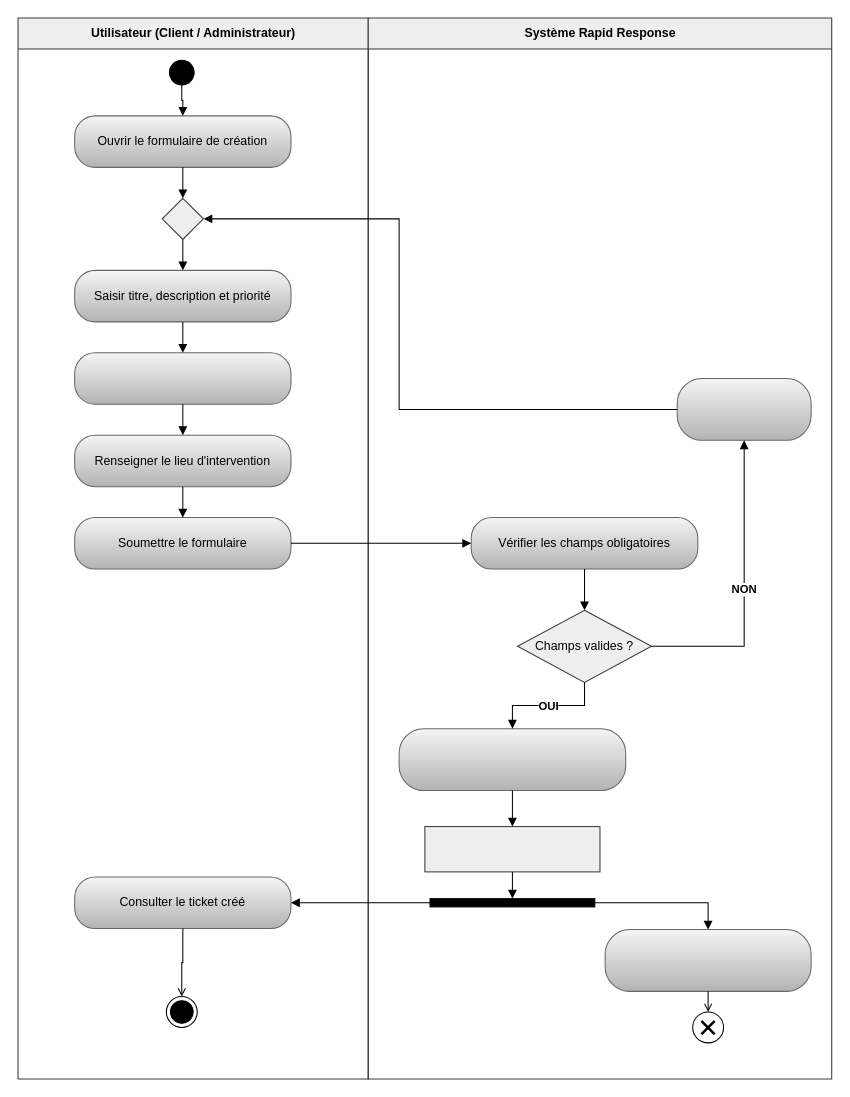
The diagram is 850 pixels wide and 1097 high, and some of its shapes have lost their labels. Here are the shapes that lost their labels. From the top down, the centre of each, then its label:
the point at 182,378: Choisir une catégorie
the point at 743,408: Signaler les champs à corriger
the point at 512,759: Créer le ticket (statut « Ouvert ») et l'associer au propriétaire
the point at 512,849: : Ticket [Ouvert]
the point at 707,960: Émettre l'événement de création + notifier (notification / e-mail)
